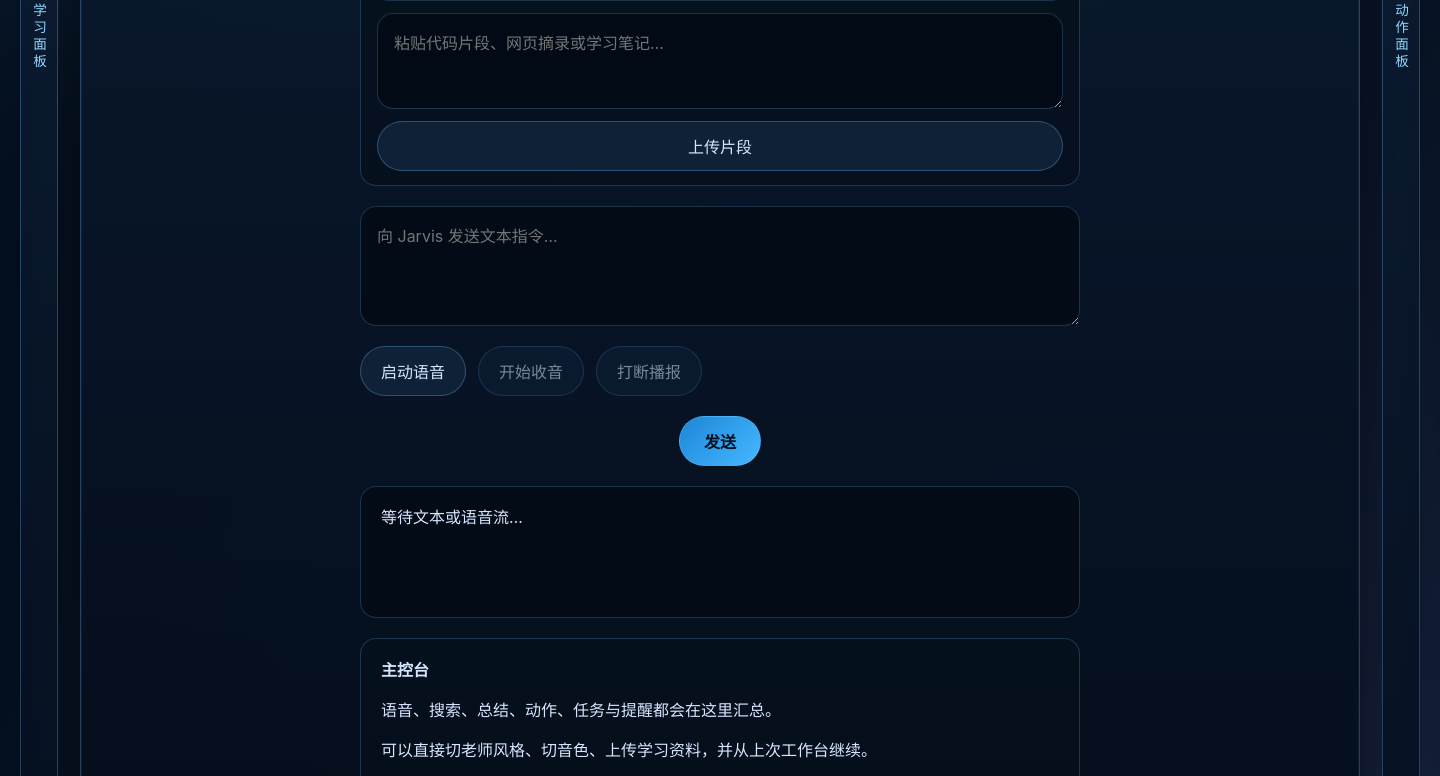
Test: voice connect failure surfaces via error message instead of disappearing
This screenshot has width=1440, height=776.
(page scrolled)
Click the button "启动语音".
click(413, 371)  # box left=360, top=346, right=466, bottom=396
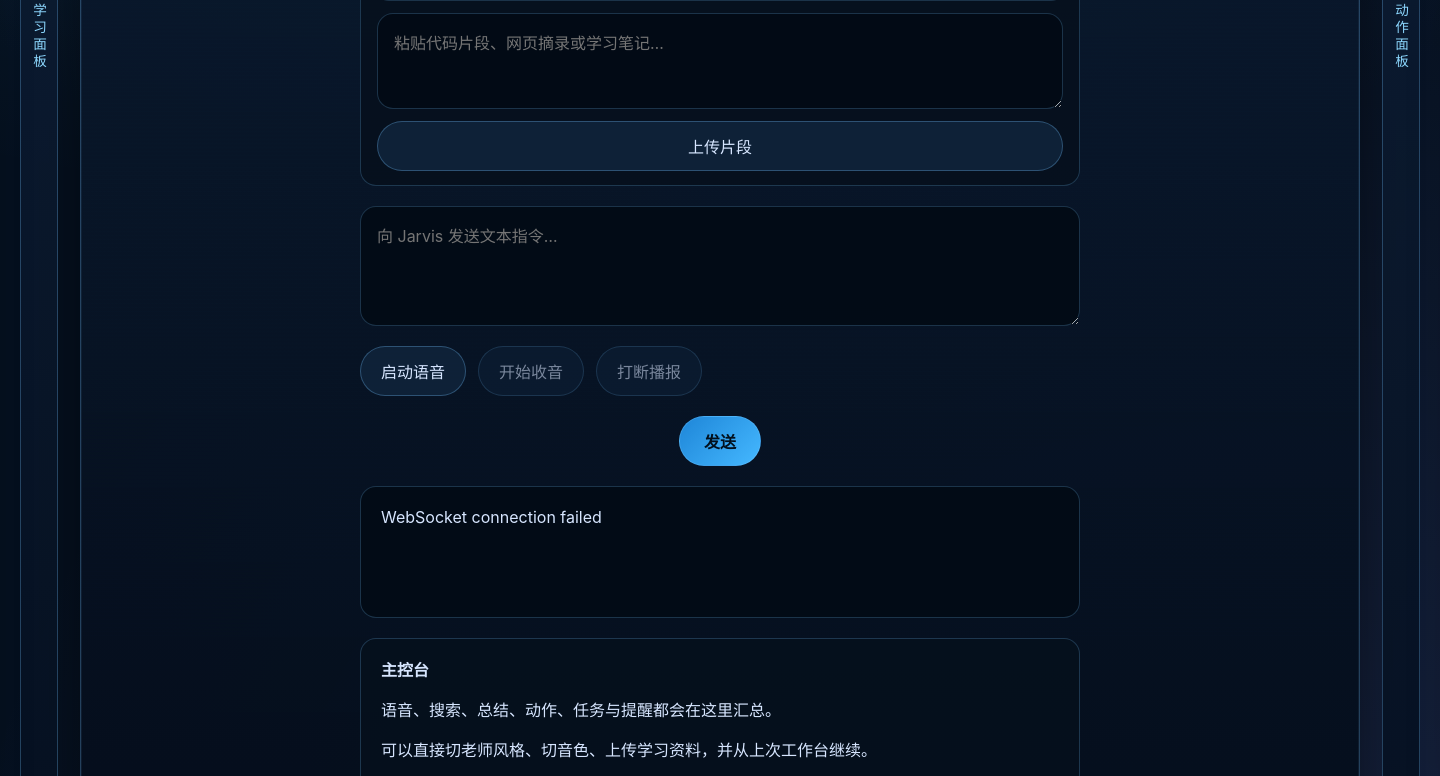
Result: the text "WebSocket connection failed" is shown at left=360, top=486, right=1080, bottom=618
